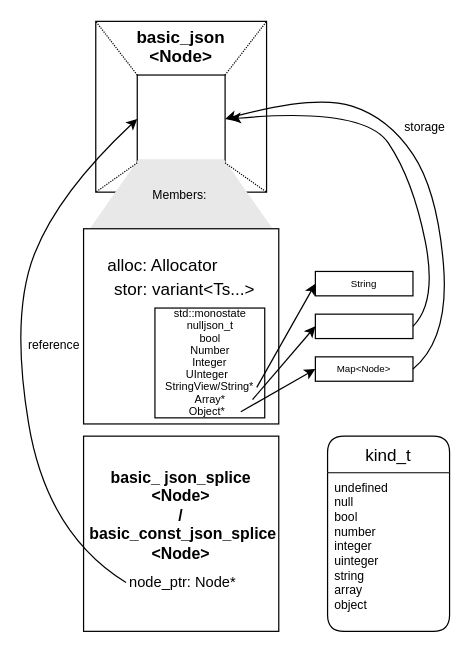
This 472x653 diagram has some shape labels left out. Here are the shapes that lost their labels. From the top down, the box of each, then its label:
(136, 74, 225, 163): Node: node_
(314, 313, 413, 339): Vector<Node>
